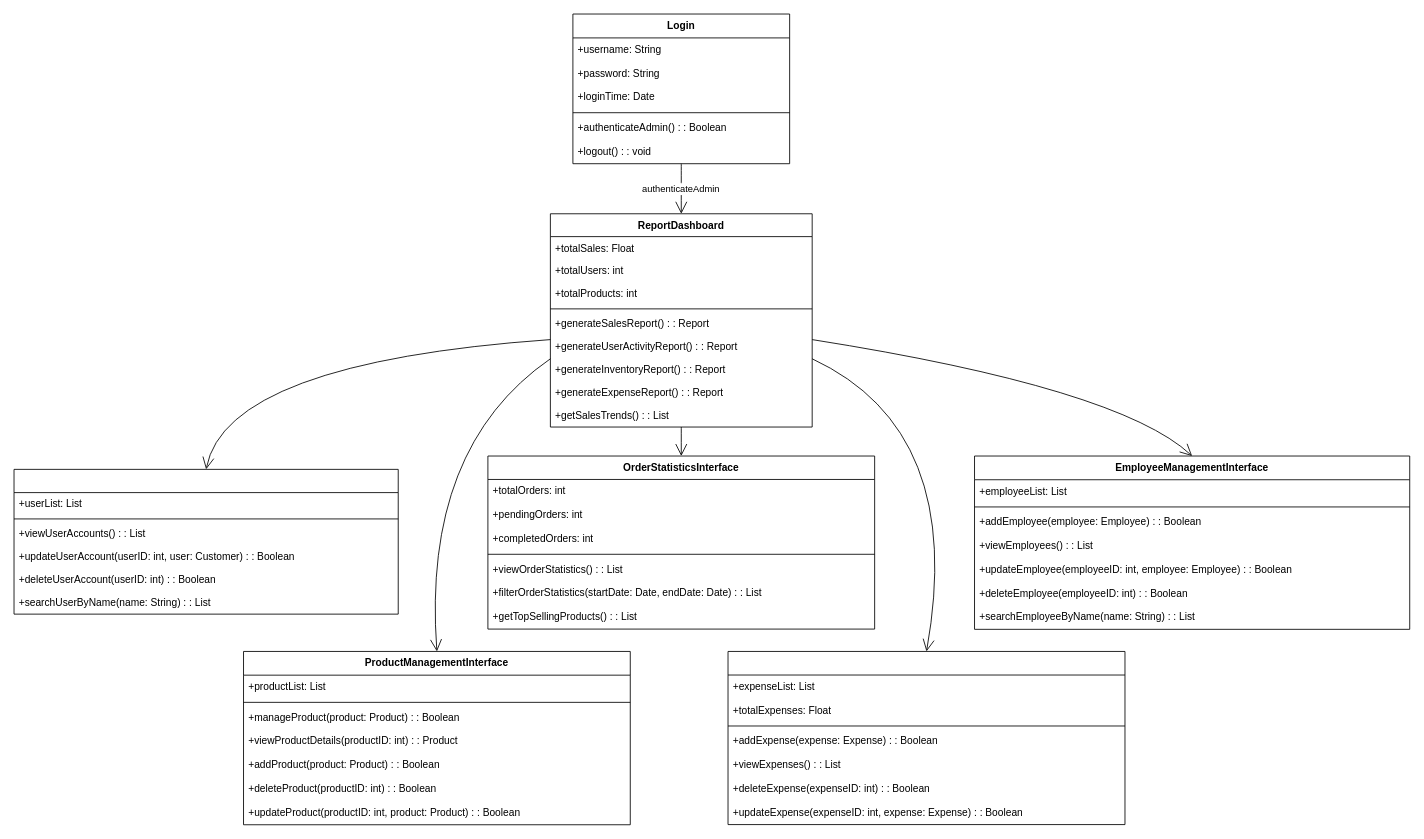
Image size: 1424x839. Some labels were removed from this diagram. Each missing label, with the box of its shape:
ExpensesInterface: (727, 651, 1125, 825)
UserAccountsInterface: (13, 469, 398, 614)
